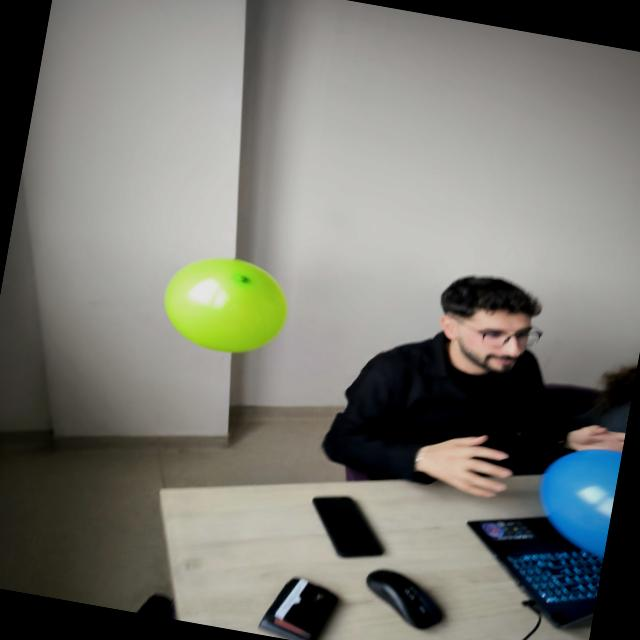balloon: (164, 259, 286, 352), (539, 449, 621, 556)
